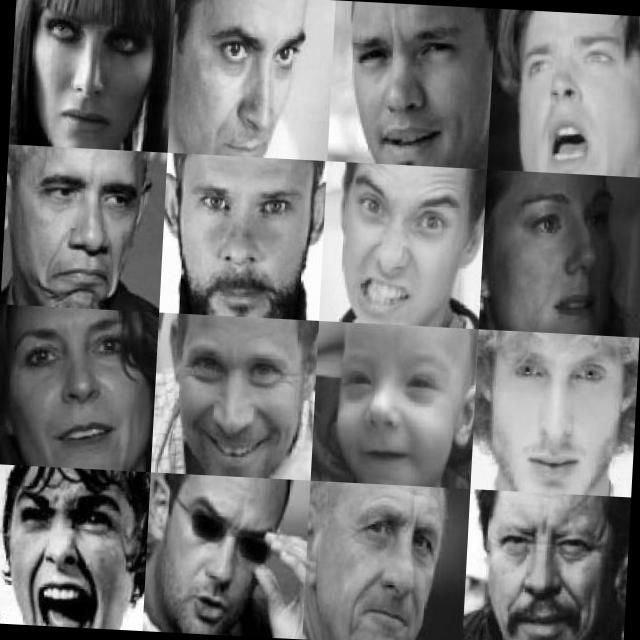angry: (181, 168, 313, 317), (188, 12, 318, 158), (21, 158, 150, 304), (336, 495, 451, 640), (174, 484, 282, 638), (486, 509, 610, 640)
fear: (1, 471, 134, 630), (340, 166, 465, 326), (506, 21, 630, 172), (29, 5, 159, 140)
happy: (341, 6, 476, 166), (329, 327, 458, 479), (176, 328, 301, 474)
neutral: (4, 302, 146, 463), (496, 336, 623, 488)
sad: (497, 173, 622, 332)
